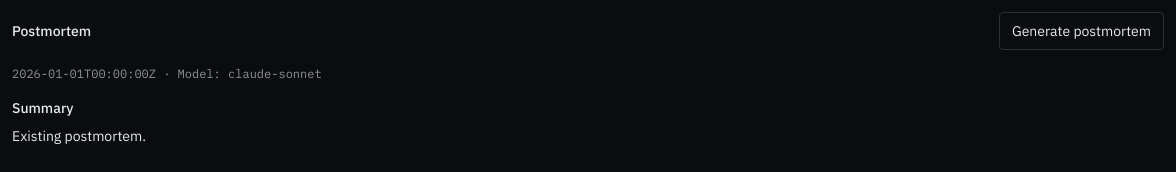
Test: PostmortemPanel › generate adds a new postmortem and displays it
Expected: the text "Existing postmortem." is shown, [12,127,146,145]
Click the button "Generate postmortem".
click(1081, 31)  # box [999,12,1164,50]
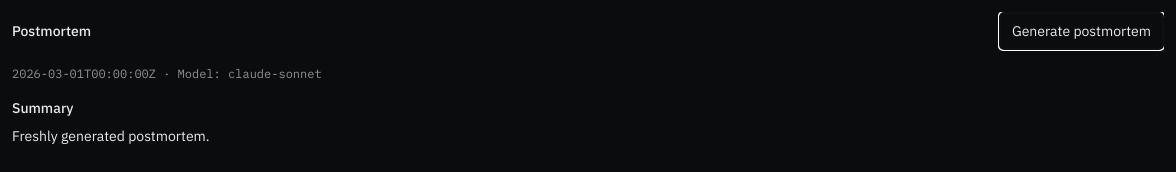
Now the text "Freshly generated postmortem." is shown, box [12,127,210,145]
